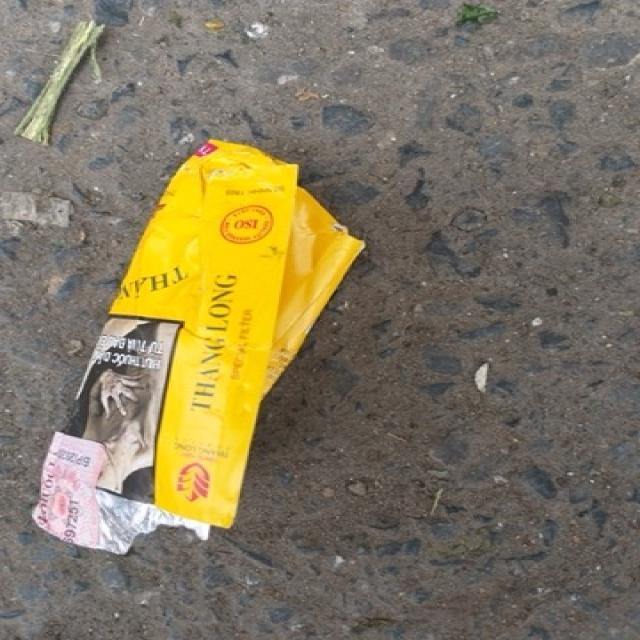PaperCardboard: (46, 145, 364, 570)
